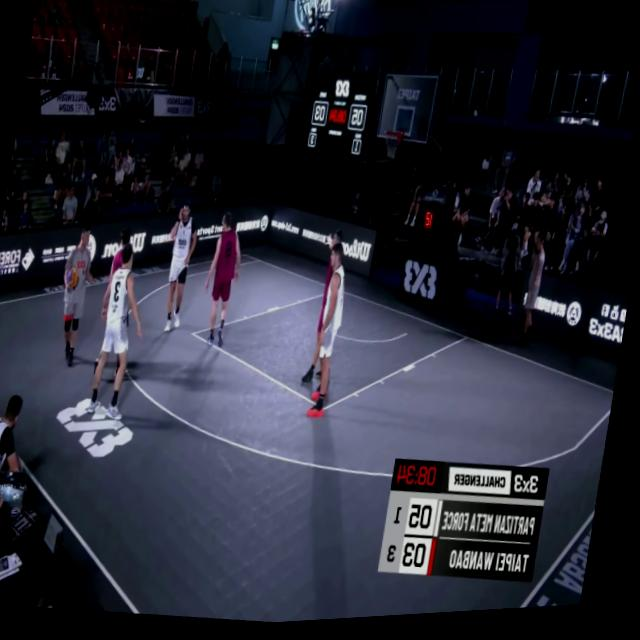ball: (65, 262, 82, 292)
hoop: (379, 129, 405, 168)
player: (88, 245, 157, 422), (304, 245, 358, 425), (302, 228, 356, 393), (155, 195, 205, 338), (198, 213, 245, 353), (107, 227, 133, 290)
